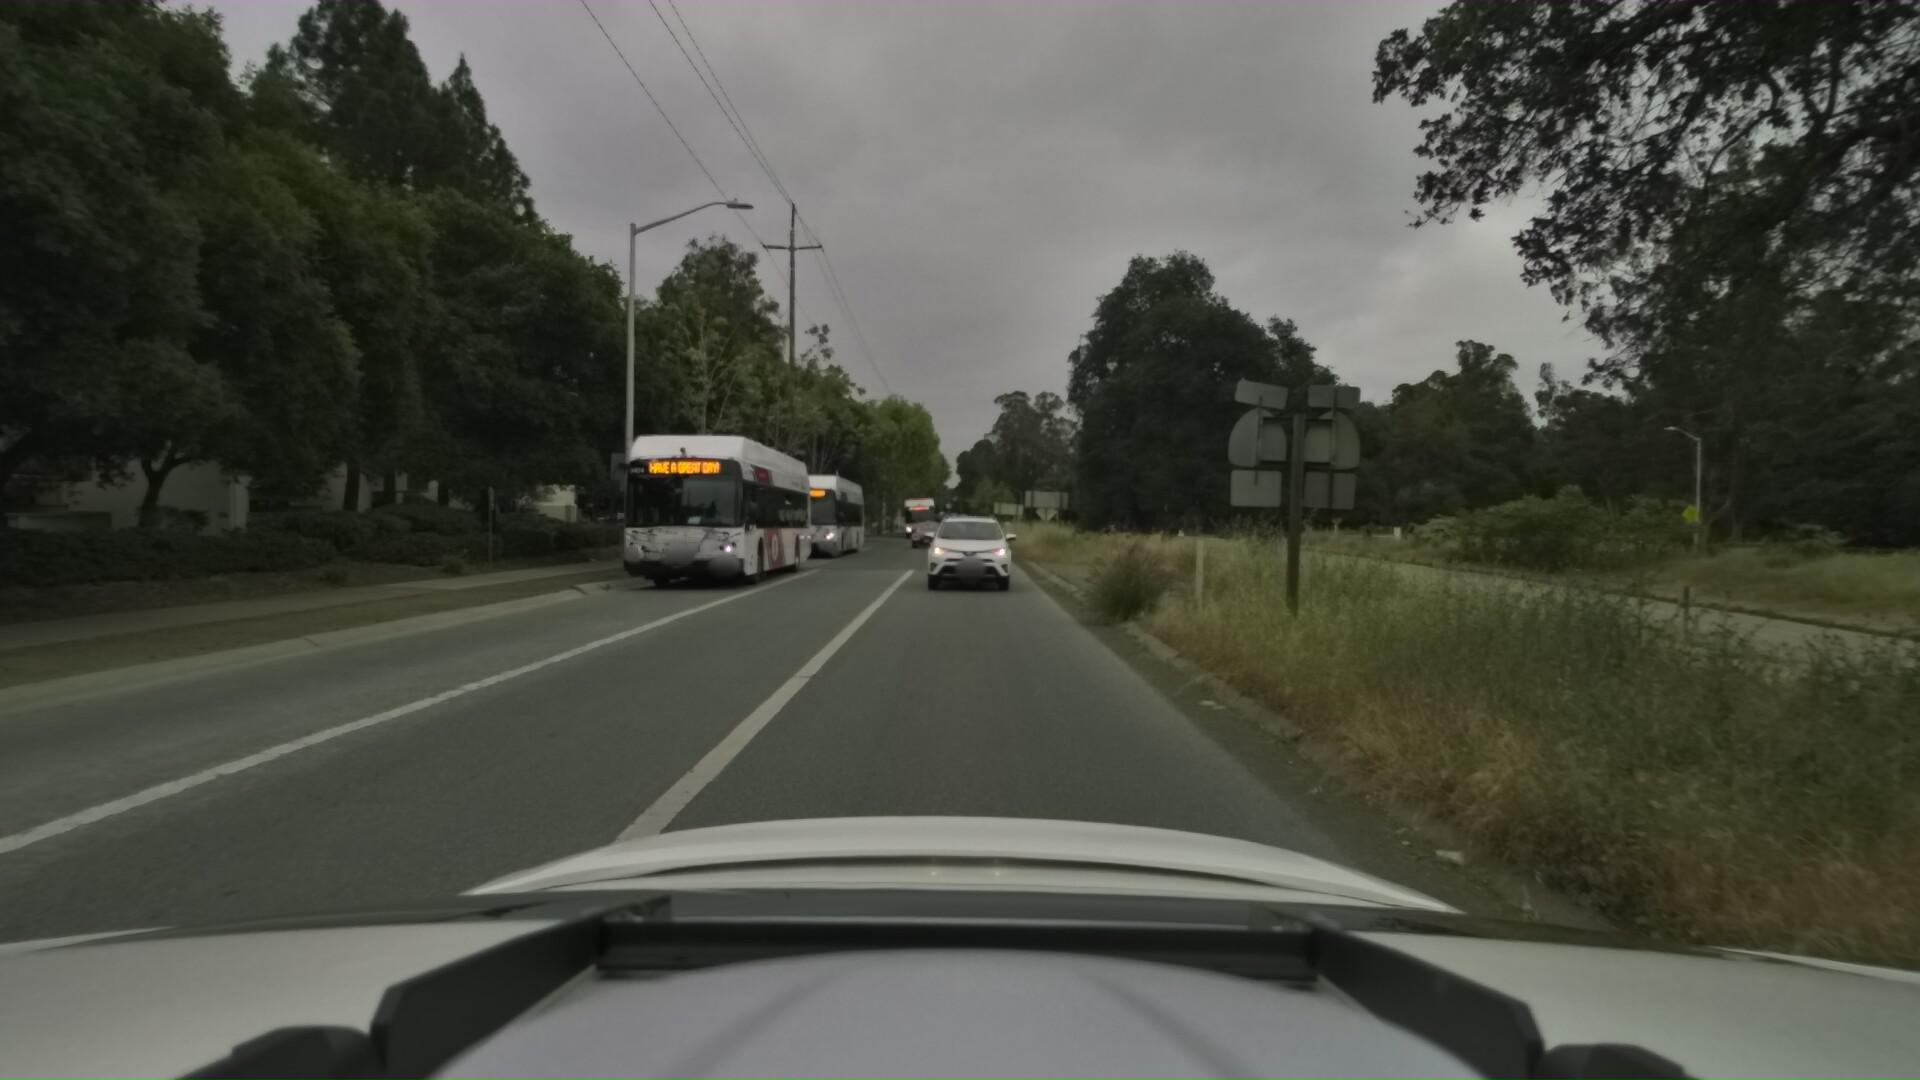bus: (588, 415, 819, 599), (761, 467, 876, 560), (903, 492, 939, 539)
car: (913, 501, 1018, 589), (905, 524, 942, 554)
